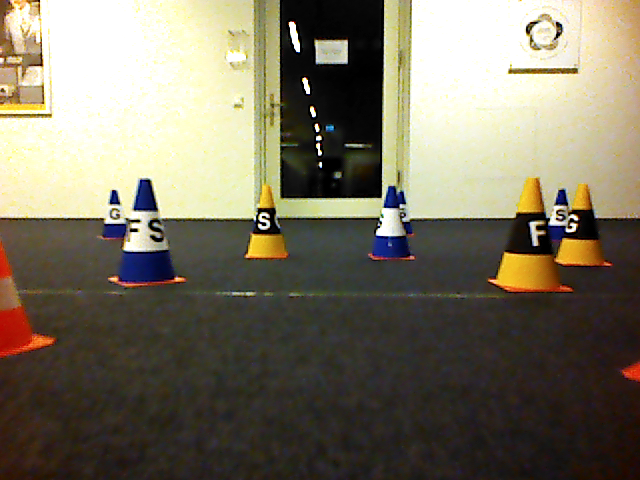bluecone: (109, 177, 190, 290), (368, 185, 417, 262)
yellowcone: (489, 177, 573, 294), (558, 183, 615, 267), (243, 184, 290, 261)
